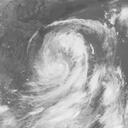cyclone: (33, 29, 89, 89)
